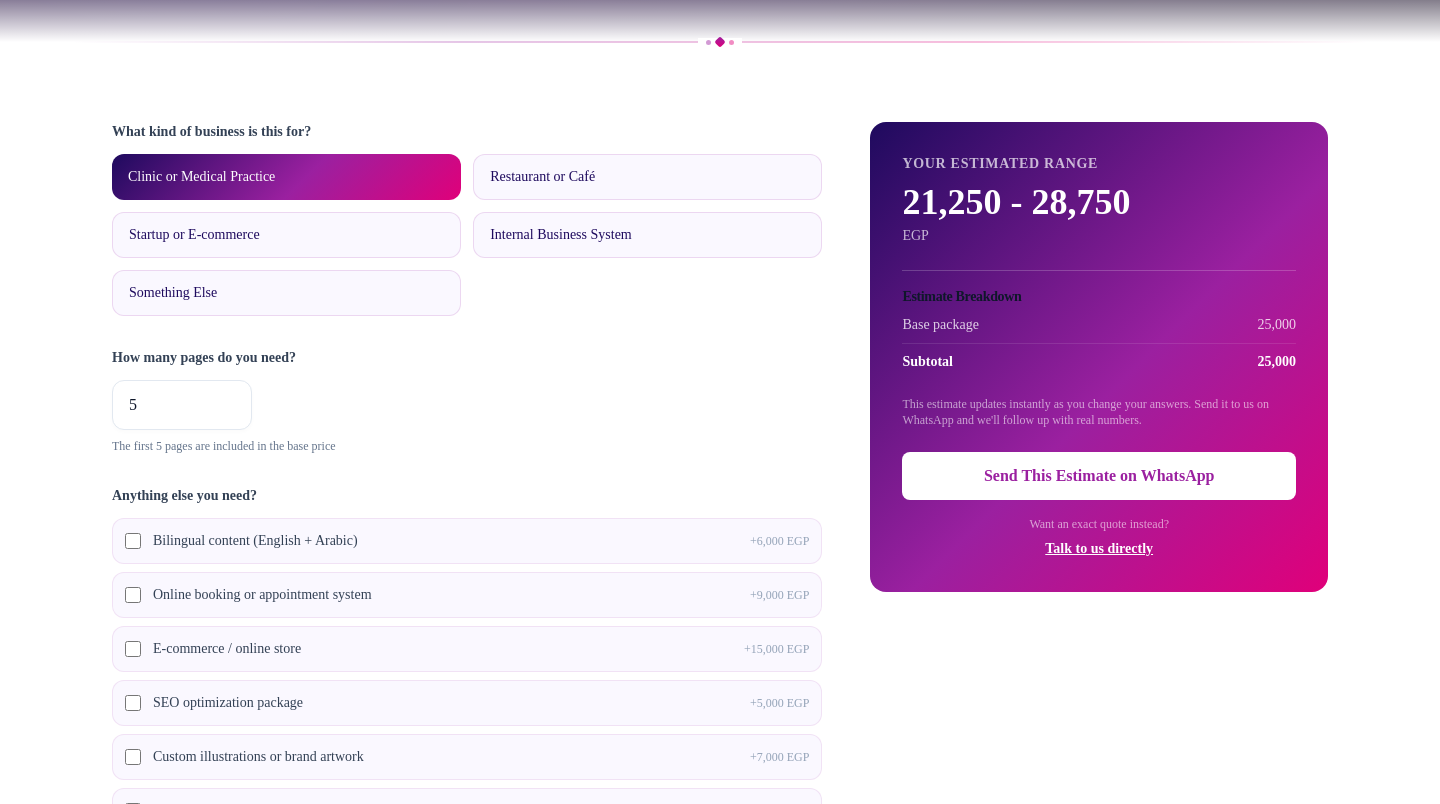
EstimatePage › Trap: only charges for pages beyond the included page count
(page scrolled)
Step 1. Replace the text in the number field labelled "How many pages do you need?" with "7" → (182, 405), box [112,380,252,430]
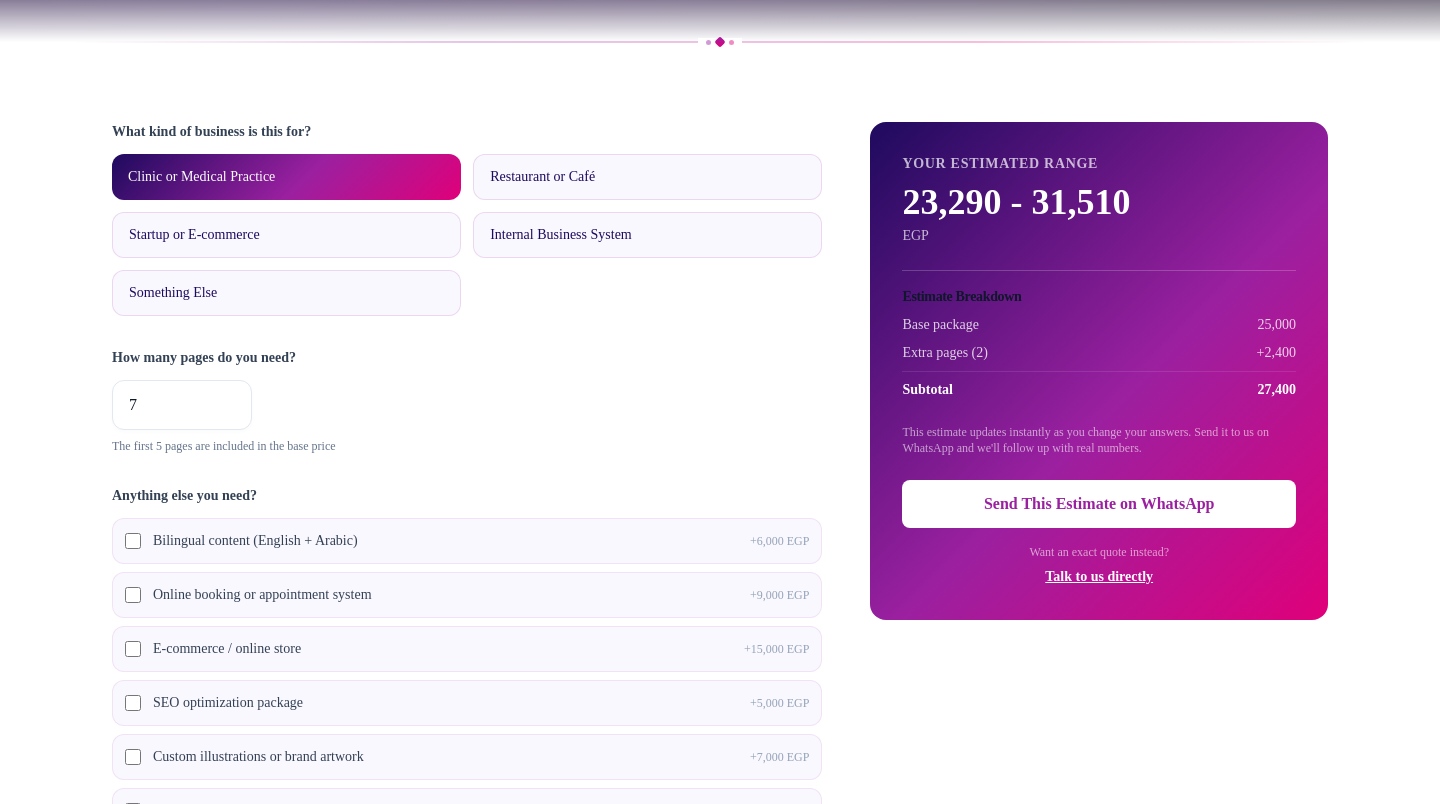
Expected: the text "Extra pages (2)" is shown, [902,343,988,363]
